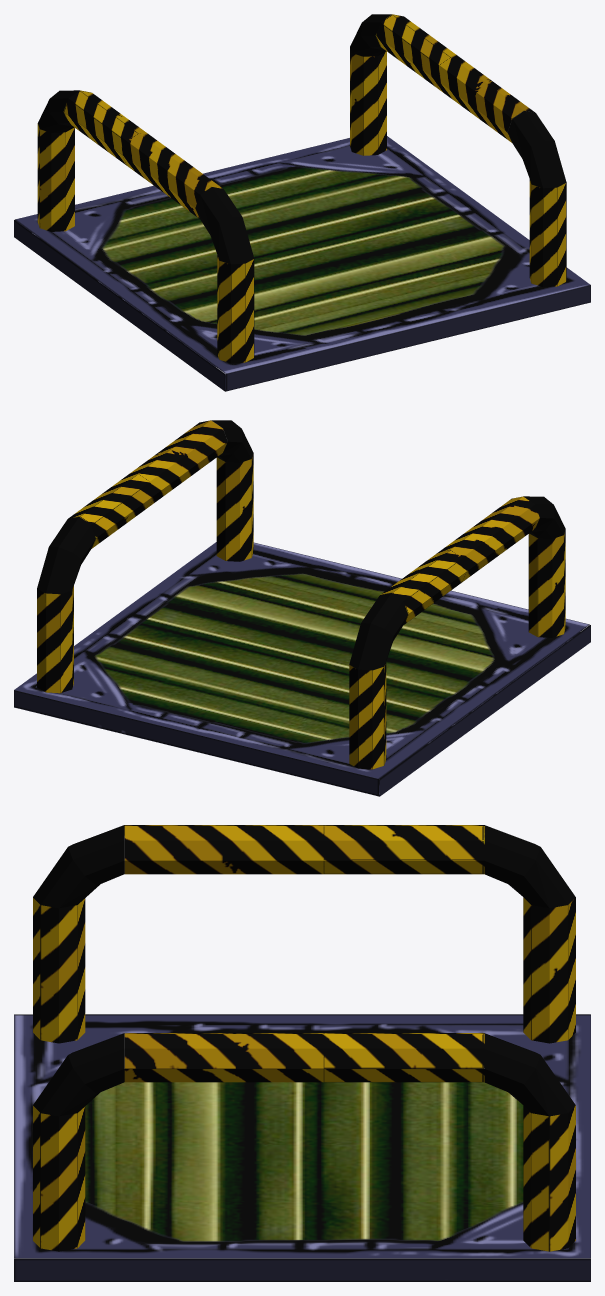
Rendered from spaceshipElevatorMAPPED.FBX.
3 renders of one model, top to bottom at view 1: azimuth 30°, elevation 25°; view 2: azimuth 150°, elevation 25°; view 3: azimuth 270°, elevation 25°, orthographic. The views are drawn at different scales.
Parts seen in each view (by area): view 1: elevator; view 2: elevator; view 3: elevator.
Part boxes in pixels (bbox=[...]): elevator: bbox=[14, 14, 590, 391]; elevator: bbox=[14, 420, 590, 796]; elevator: bbox=[14, 825, 590, 1281].
Bounding box in the file's own units: 110 × 110 × 48.45.
